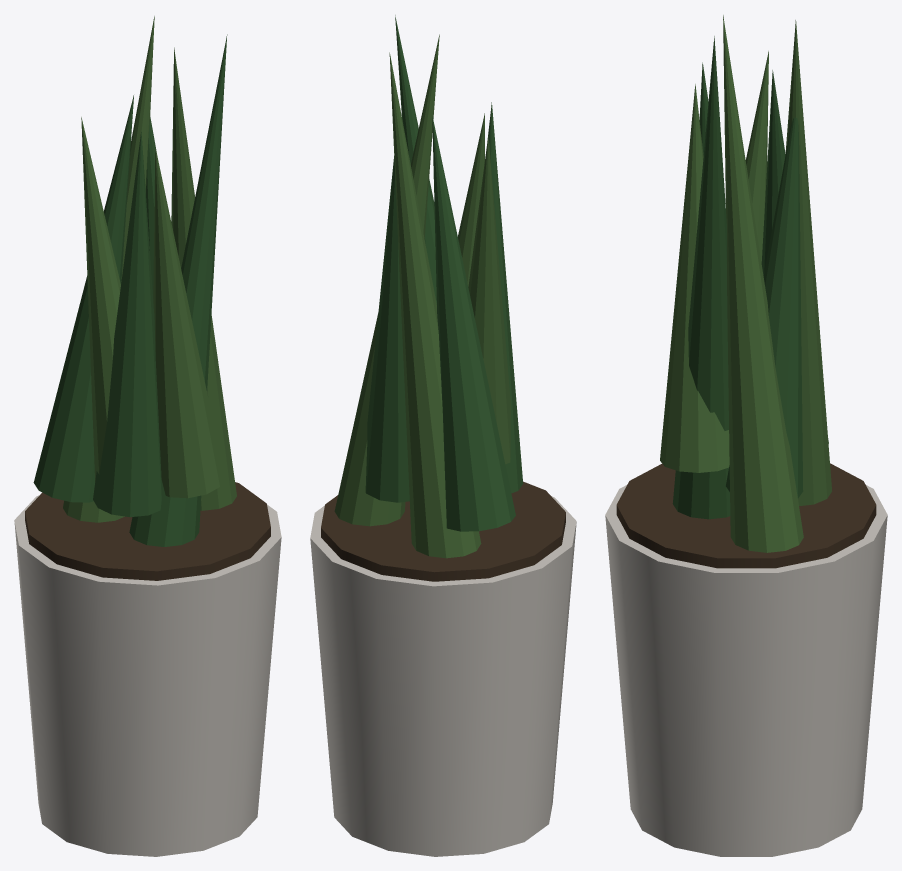
Rendered from espada-sao-jorge.glb.
3 renders of one model, left to right at view 1: azimuth 30°, elevation 25°; view 2: azimuth 150°, elevation 25°; view 3: azimuth 270°, elevation 25°, orthographic. The views are drawn at different scales.
Parts seen in each view (by area): view 1: espada-sao-jorge_malha; view 2: espada-sao-jorge_malha; view 3: espada-sao-jorge_malha.
Part boxes in pixels (bbox=[...]): espada-sao-jorge_malha: bbox=[14, 16, 281, 856]; espada-sao-jorge_malha: bbox=[310, 15, 576, 856]; espada-sao-jorge_malha: bbox=[605, 15, 887, 856].
Size of the model in its own units: 0.3705 by 1.2 by 0.38.
